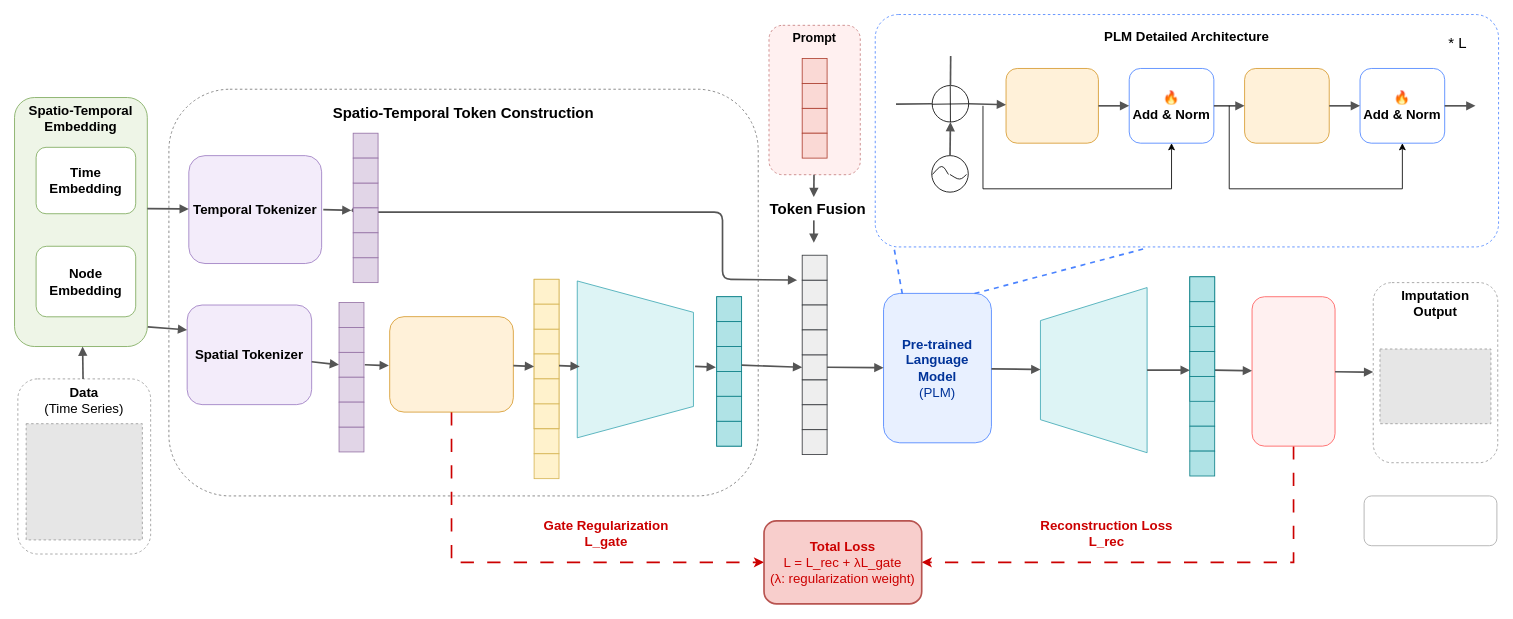
Image size: 1513x619. Some labels were removed from this diagram. Grey dashed boxes stand in for pictures. The centre of each missing label's shape, as x and y in pixels:
Bottleneck Decoder: the point at 1093,370
Bottleneck Encoder: the point at 634,359
Output Projection: the point at 1293,371
Spatial-temporal Causal Attention: the point at 451,364
❄️ Feed Forward: the point at 1286,105
❄️ Frozen module 🔥 Trainable module: the point at 1430,520
❄️ Multi-head Attention: the point at 1051,105
